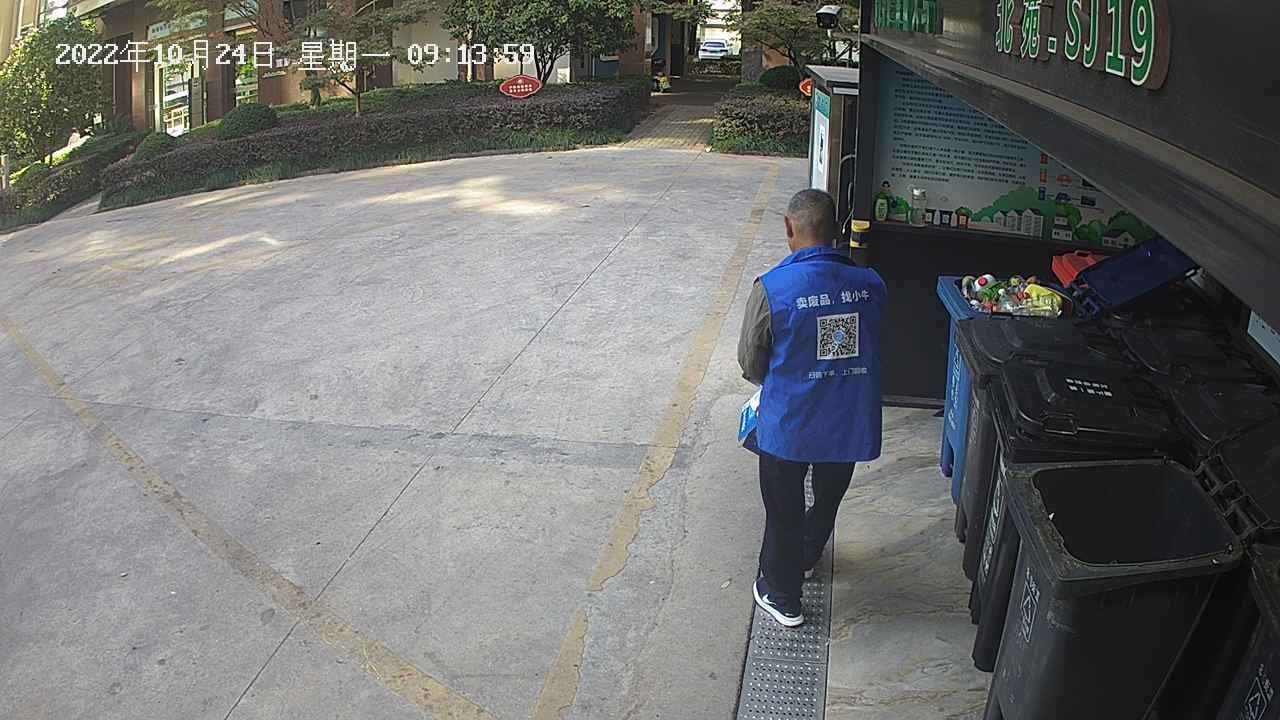worker: (729, 185, 896, 634)
